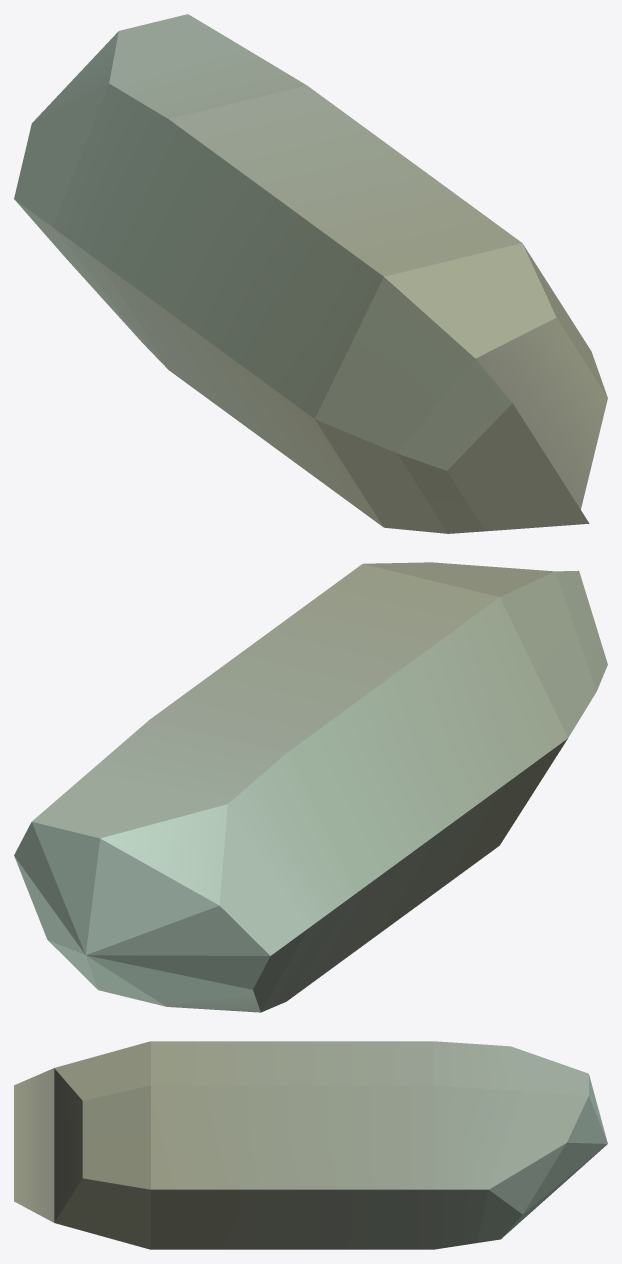
File: ColoredCrystal.010.glb
3 views of the same model, one above another, from view 1: azimuth 30°, elevation 25°; view 2: azimuth 150°, elevation 25°; view 3: azimuth 270°, elevation 25° (orthographic). The views are drawn at different scales.
Parts seen in each view (by area): view 1: ColoredCrystal.010; view 2: ColoredCrystal.010; view 3: ColoredCrystal.010.
Boxes of the visible parts, x1=… form: ColoredCrystal.010: x1=14, y1=14, x2=607, y2=533; ColoredCrystal.010: x1=14, y1=562, x2=607, y2=1012; ColoredCrystal.010: x1=14, y1=1041, x2=607, y2=1249.
Bounding box in the file's own units: 221 × 192 × 628.
